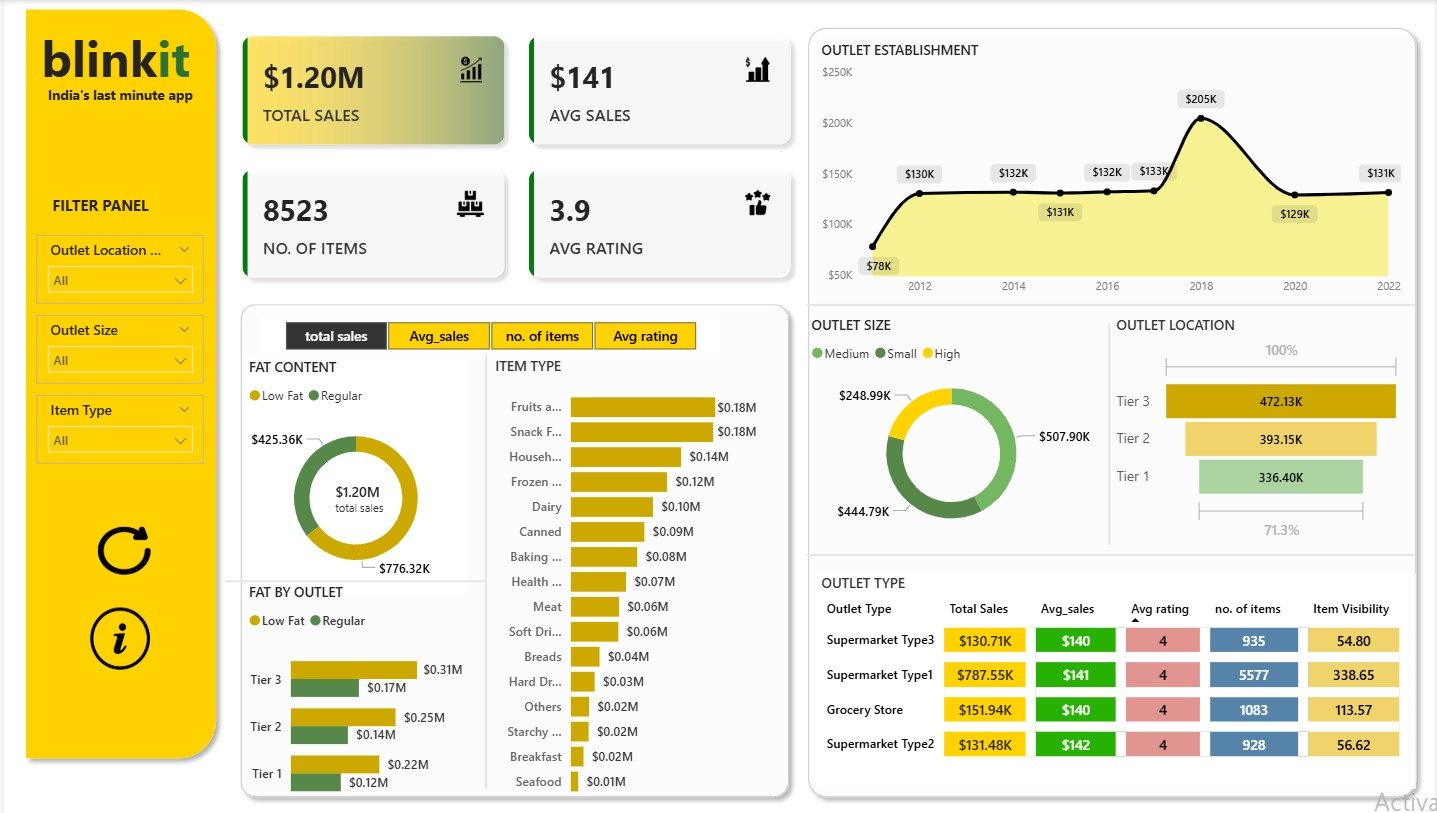

The page's visual inventory and layout, read from the dashboard file:
{"tool":"powerbi","page":{"name":"Page 1","canvas":[1400,800],"ordinal":0},"visuals":[{"type":"shape","box":[12,0,204.1,750.4],"z":0},{"type":"textbox","box":[31.5,18,163.6,81],"z":1000},{"type":"textbox","box":[31.5,78,163.6,42],"z":2000},{"type":"cardVisual","fields":{"Data":["BlinkIT Grocery Data.total sales","BlinkIT Grocery Data.Avg_sales","BlinkIT Grocery Data.no. of items","BlinkIT Grocery Data.Avg rating"]},"box":[216.1,18,570.3,270.2],"z":3000},{"type":"shape","box":[222.1,288.2,553.8,499.8],"z":4000},{"type":"donutChart","title":"FAT CONTENT","fields":{"Y":["BlinkIT Grocery Data.Total Sales"],"Category":["BlinkIT Grocery Data.Item Fat Content"]},"box":[234.1,349.7,219.1,229.6],"z":5000},{"type":"slicer","fields":{"Values":["METRICS.METRICS"]},"box":[248.7,308.2,451.1,39.7],"z":6000},{"type":"cardVisual","fields":{"Data":["BlinkIT Grocery Data.Total Sales"]},"box":[306.2,450.3,85.5,73.5],"z":7000},{"type":"clusteredBarChart","title":"FAT BY OUTLET","fields":{"Y":["BlinkIT Grocery Data.Total Sales"],"Series":["BlinkIT Grocery Data.Item Fat Content"],"Category":["BlinkIT Grocery Data.Outlet Location Type"]},"box":[234.1,568.8,219.1,229.6],"z":8000},{"type":"shape","box":[216.1,558.3,255.1,19.5],"z":9000},{"type":"shape","box":[460.3,345.2,21.2,425.9],"z":10000},{"type":"barChart","title":"ITEM TYPE","fields":{"Y":["BlinkIT Grocery Data.Total Sales"],"Category":["BlinkIT Grocery Data.Item Type"]},"box":[474.9,347.9,265.9,440.5],"z":11000},{"type":"shape","box":[776.5,18.5,612.4,769.8],"z":12000},{"type":"lineChart","title":"OUTLET ESTABLISHMENT","fields":{"Y":["BlinkIT Grocery Data.Total Sales"],"Category":["BlinkIT Grocery Data.Outlet Establishment Year"]},"box":[794,39,576.3,258.1],"z":13000},{"type":"shape","box":[785,288.2,594.3,19.5],"z":14000},{"type":"donutChart","title":"OUTLET SIZE","fields":{"Y":["BlinkIT Grocery Data.Total Sales"],"Category":["BlinkIT Grocery Data.Outlet Size"]},"box":[785,308,283.7,225.1],"z":15000},{"type":"funnel","title":"OUTLET LOCATION  ","fields":{"Y":["Sum(BlinkIT Grocery Data.Sales)"],"Category":["BlinkIT Grocery Data.Outlet Location Type"]},"box":[1082.1,308,288.2,225.1],"z":16000},{"type":"shape","box":[1068.6,316.7,22.5,216.1],"z":17000},{"type":"shape","box":[785,532.8,594.3,19.5],"z":18000},{"type":"pivotTable","title":"OUTLET TYPE","fields":{"Rows":["BlinkIT Grocery Data.Outlet Type"],"Values":["BlinkIT Grocery Data.Total Sales","BlinkIT Grocery Data.Avg_sales","BlinkIT Grocery Data.Avg rating","BlinkIT Grocery Data.no. of items","Sum(BlinkIT Grocery Data.Item Visibility)"]},"box":[794,561.3,585.3,210.1],"z":19000},{"type":"slicer","fields":{"Values":["BlinkIT Grocery Data.Outlet Location Type"]},"box":[31.5,229.6,163.6,67.5],"z":20000},{"type":"slicer","fields":{"Values":["BlinkIT Grocery Data.Outlet Size"]},"box":[31.5,307.7,163.6,67.5],"z":21000},{"type":"slicer","fields":{"Values":["BlinkIT Grocery Data.Item Type"]},"box":[31.5,385.7,163.6,67.5],"z":22000},{"type":"textbox","box":[34.5,186.1,157.6,31.5],"z":23000},{"type":"actionButton","box":[83.3,506.6,68.8,62.2],"z":24000},{"type":"actionButton","box":[84.7,593.9,58.2,60.8],"z":24001}]}

Visuals, with their boxes in screenshot pixels (x1, y1, x2, y2), scaled from the page's 1400x800 canvas onto the 1437x813 screenshot:
shape: <box>12,0,222,763</box>
textbox: <box>32,18,200,101</box>
textbox: <box>32,79,200,122</box>
cardVisual - BlinkIT Grocery Data.total sales x BlinkIT Grocery Data.Avg_sales: <box>222,18,807,293</box>
shape: <box>228,293,796,801</box>
"FAT CONTENT" donutChart: <box>240,355,465,589</box>
slicer - METRICS.METRICS: <box>255,313,718,354</box>
cardVisual - BlinkIT Grocery Data.Total Sales: <box>314,458,402,532</box>
"FAT BY OUTLET" clusteredBarChart: <box>240,578,465,811</box>
shape: <box>222,567,484,587</box>
shape: <box>472,351,494,784</box>
"ITEM TYPE" barChart: <box>487,354,760,801</box>
shape: <box>797,19,1426,801</box>
"OUTLET ESTABLISHMENT" lineChart: <box>815,40,1407,302</box>
shape: <box>806,293,1416,313</box>
"OUTLET SIZE" donutChart: <box>806,313,1097,542</box>
"OUTLET LOCATION  " funnel: <box>1111,313,1407,542</box>
shape: <box>1097,322,1120,541</box>
shape: <box>806,541,1416,561</box>
"OUTLET TYPE" pivotTable: <box>815,570,1416,784</box>
slicer - BlinkIT Grocery Data.Outlet Location Type: <box>32,233,200,302</box>
slicer - BlinkIT Grocery Data.Outlet Size: <box>32,313,200,381</box>
slicer - BlinkIT Grocery Data.Item Type: <box>32,392,200,461</box>
textbox: <box>35,189,197,221</box>
actionButton: <box>86,515,156,578</box>
actionButton: <box>87,604,147,665</box>
